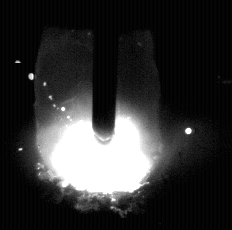arame: (92, 0, 117, 144)
poca: (35, 0, 166, 230)
